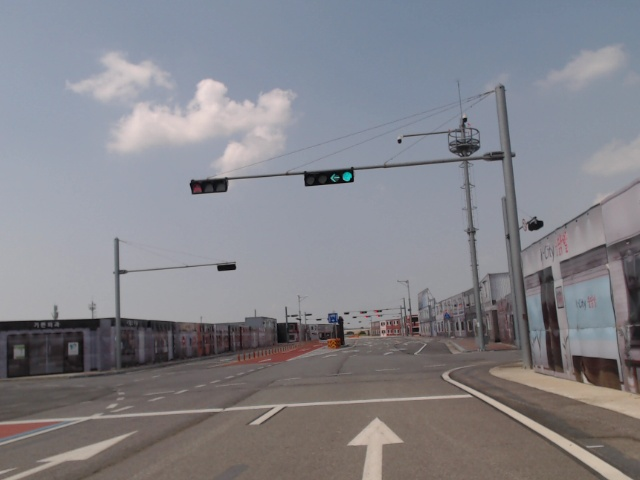all_green_4: (303, 168, 354, 186)
